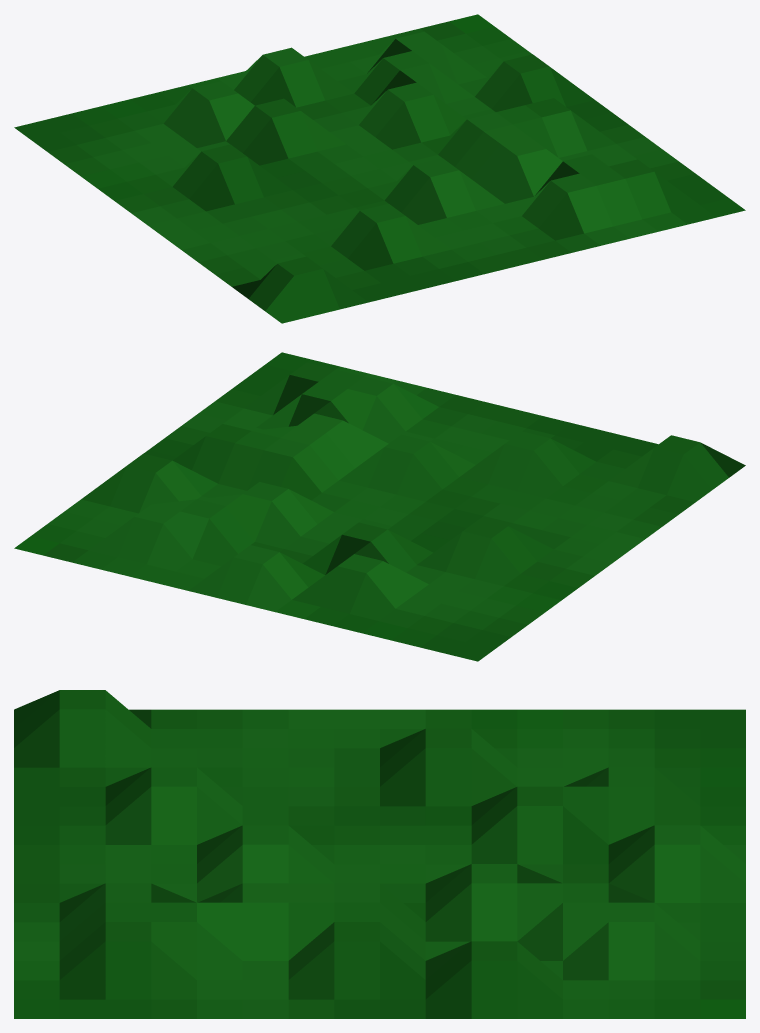
Rendered from chunk_0_0.gltf.
3 views of the same model, one above another, from view 1: azimuth 30°, elevation 25°; view 2: azimuth 150°, elevation 25°; view 3: azimuth 270°, elevation 25° (orthographic). The views are drawn at different scales.
Parts seen in each view (by area): view 1: ground; view 2: ground; view 3: ground.
Boxes of the visible parts, x1,y1,x2,y2 form: ground: [14, 14, 745, 323]; ground: [14, 352, 745, 661]; ground: [14, 690, 745, 1018].
Size of the model in its own units: 160 by 9.38 by 160.
Materials: 1 (1 with a texture image).
